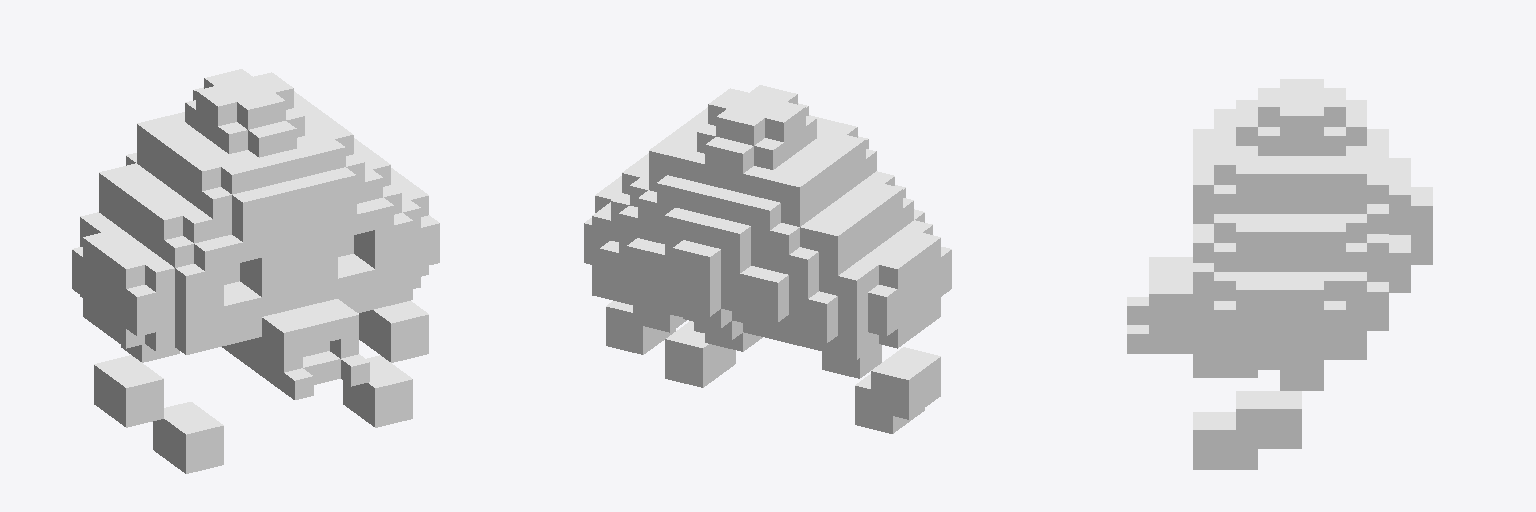
File: SpaceInvader4.1.obj
The picture shows the model from 3 angles: view 1: azimuth 30°, elevation 25°; view 2: azimuth 150°, elevation 25°; view 3: azimuth 270°, elevation 25°; orthographic projection.
Parts seen in each view (by area): view 1: object 1; view 2: object 1; view 3: object 1.
Boxes of the visible parts, <box> form: object 1: <box>72,69,439,473</box>; object 1: <box>584,85,951,433</box>; object 1: <box>1127,79,1432,469</box>.
Size of the model in its own units: 1.6 by 1.6 by 1.4.